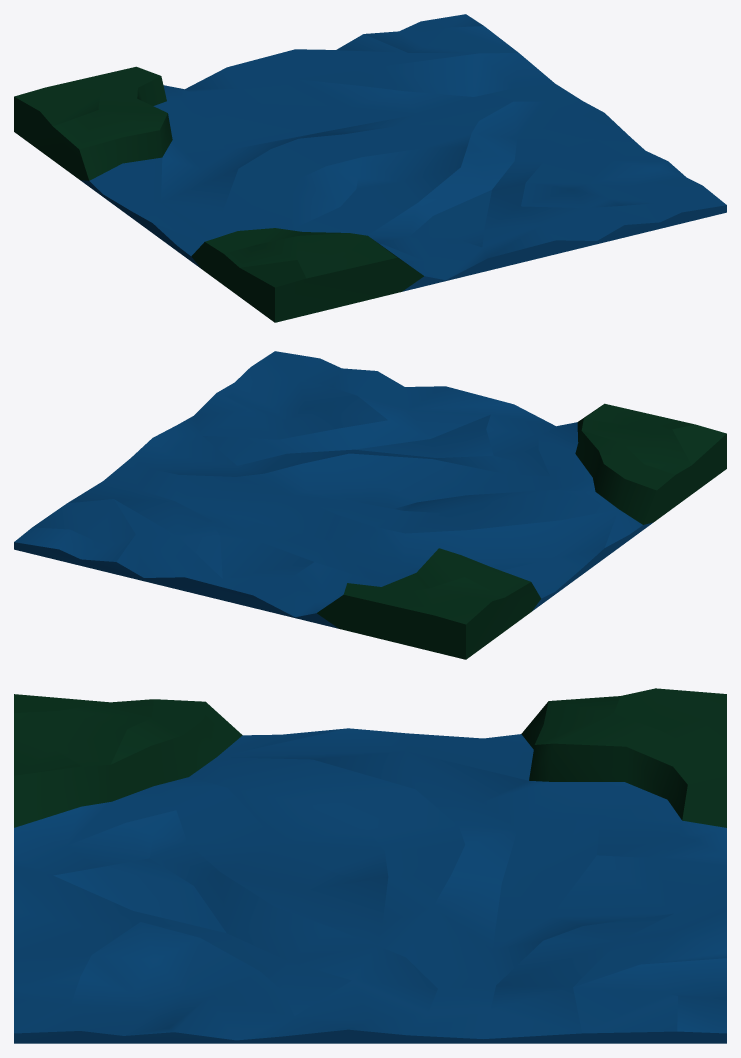
File: Water_River_Entrance_L.fbx
The picture shows the model from 3 angles, top to bottom: view 1: azimuth 30°, elevation 25°; view 2: azimuth 150°, elevation 25°; view 3: azimuth 270°, elevation 25°; orthographic projection. The views are drawn at different scales.
Parts seen in each view (by area): view 1: Water_River_Entrance_L; view 2: Water_River_Entrance_L; view 3: Water_River_Entrance_L.
Boxes of the visible parts, box(x1,y1,x2,y2) form: Water_River_Entrance_L: box(14, 14, 726, 322); Water_River_Entrance_L: box(14, 351, 726, 659); Water_River_Entrance_L: box(14, 688, 726, 1043).
Bounding box in the file's own units: 147 × 13.39 × 147.
